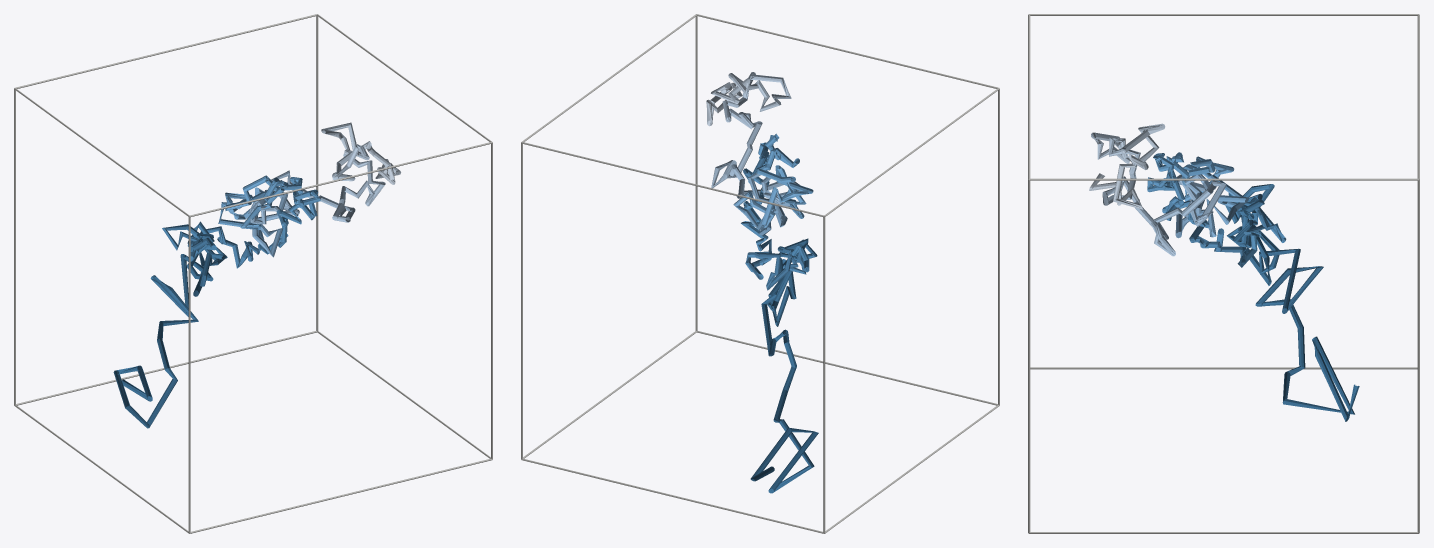
The picture shows the model from 3 angles, left to right: view 1: azimuth 30°, elevation 25°; view 2: azimuth 150°, elevation 25°; view 3: azimuth 270°, elevation 25°; orthographic projection. The views are drawn at different scales.
Visible parts, largest first — view 1: geometry_0, geometry_1; view 2: geometry_0, geometry_1; view 3: geometry_0, geometry_1.
Boxes of the visible parts, x1=… form: geometry_0: x1=113, y1=122, x2=400, y2=428; geometry_1: x1=14, y1=14, x2=492, y2=533; geometry_0: x1=706, y1=72, x2=818, y2=493; geometry_1: x1=521, y1=14, x2=999, y2=533; geometry_0: x1=1089, y1=123, x2=1359, y2=421; geometry_1: x1=1028, y1=14, x2=1419, y2=533.
Size of the model in its own units: 0.3016 by 0.3035 by 0.3016.
